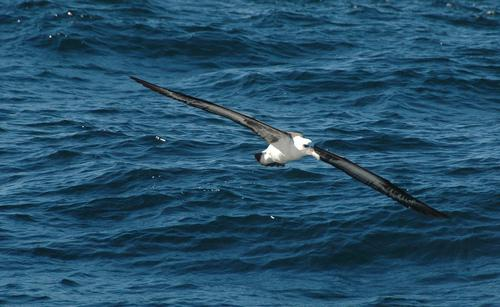002.Laysan_Albatross: (126, 74, 448, 220)
